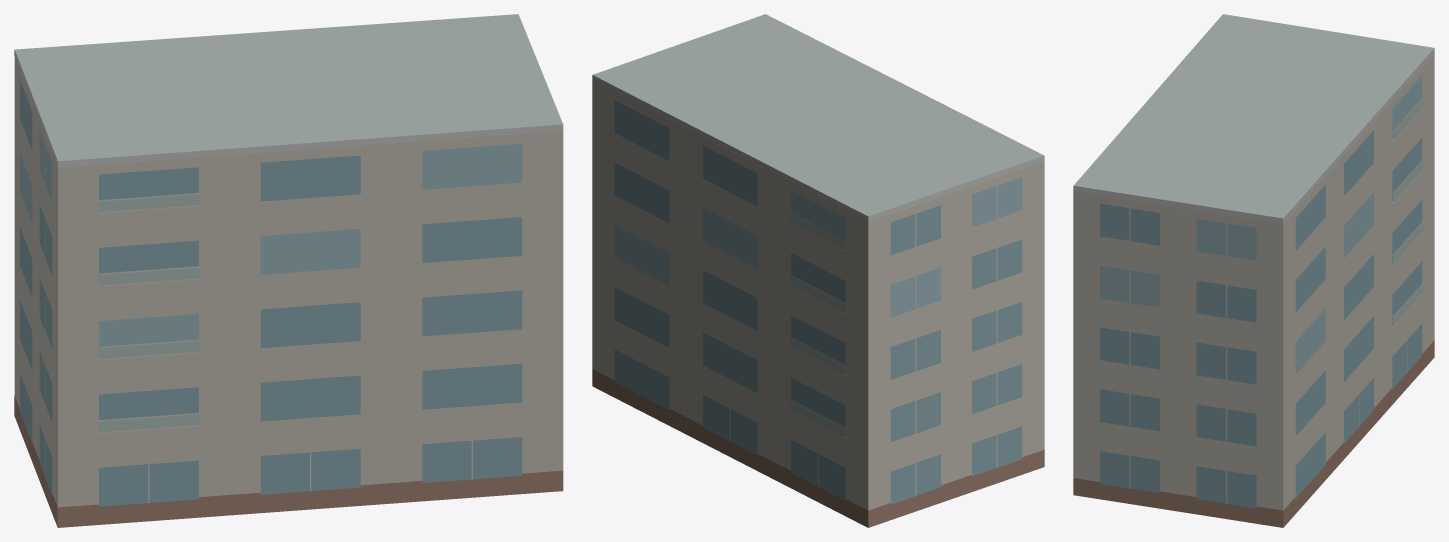
The model's file is survey-upis-32932405.glb.
The picture shows the model from 3 angles, left to right: view 1: azimuth 30°, elevation 25°; view 2: azimuth 150°, elevation 25°; view 3: azimuth 270°, elevation 25°; orthographic projection. The views are drawn at different scales.
Parts seen in each view (by area): view 1: survey-upis-32932405.tmp; view 2: survey-upis-32932405.tmp; view 3: survey-upis-32932405.tmp.
Part boxes in pixels (x1,y1,x2,y2): survey-upis-32932405.tmp: [14, 14, 563, 527]; survey-upis-32932405.tmp: [592, 14, 1044, 527]; survey-upis-32932405.tmp: [1073, 14, 1434, 527].
Bounding box in the file's own units: 19.28 × 13.6 × 14.4.
